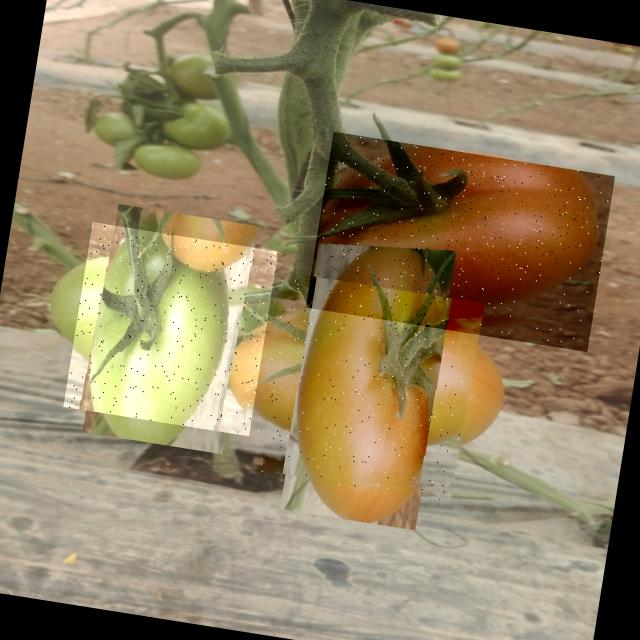Ripe Tomato: (306, 132, 615, 352), (252, 272, 484, 503)
Unripe Tomato: (63, 223, 278, 437)
